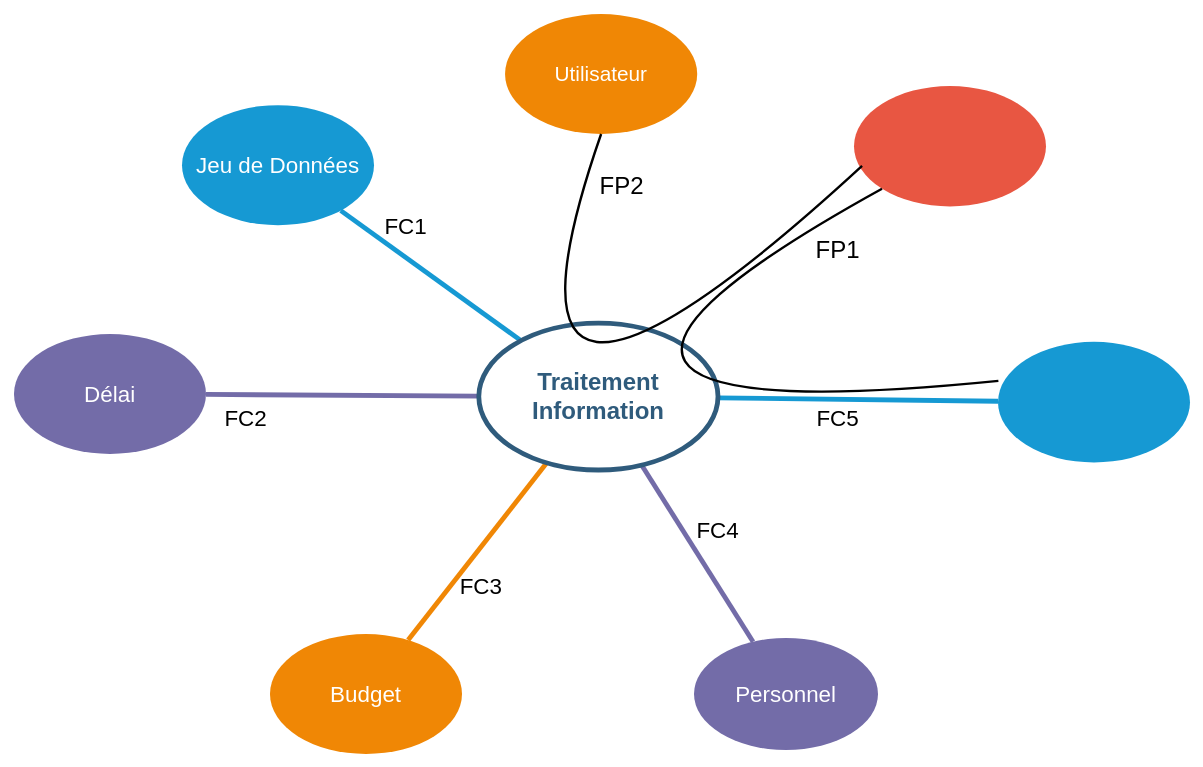
Image size: 1203x767. Some labels were removed from this diagram. Here are the shapes that lost their labels. From the top down, the centre of each, then its label:
At [950,146]: "Donnée Statistique".
At [1094,401]: "Requête, Table SQL".
